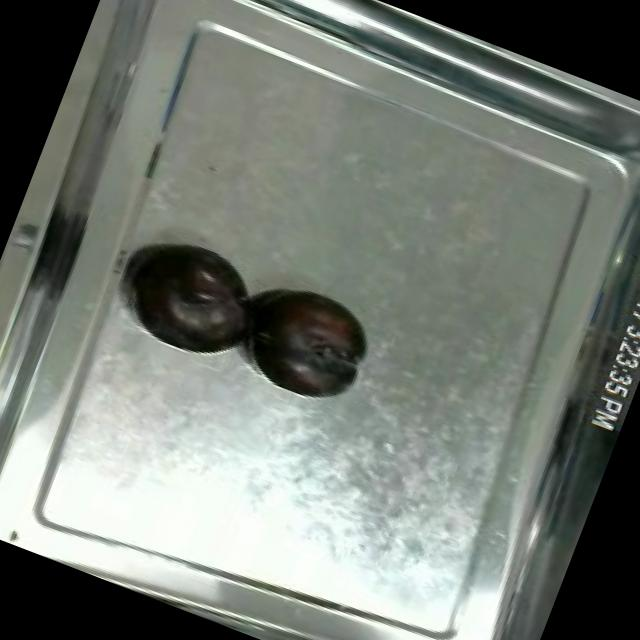Fruit: (235, 268, 388, 410), (119, 226, 272, 363)
